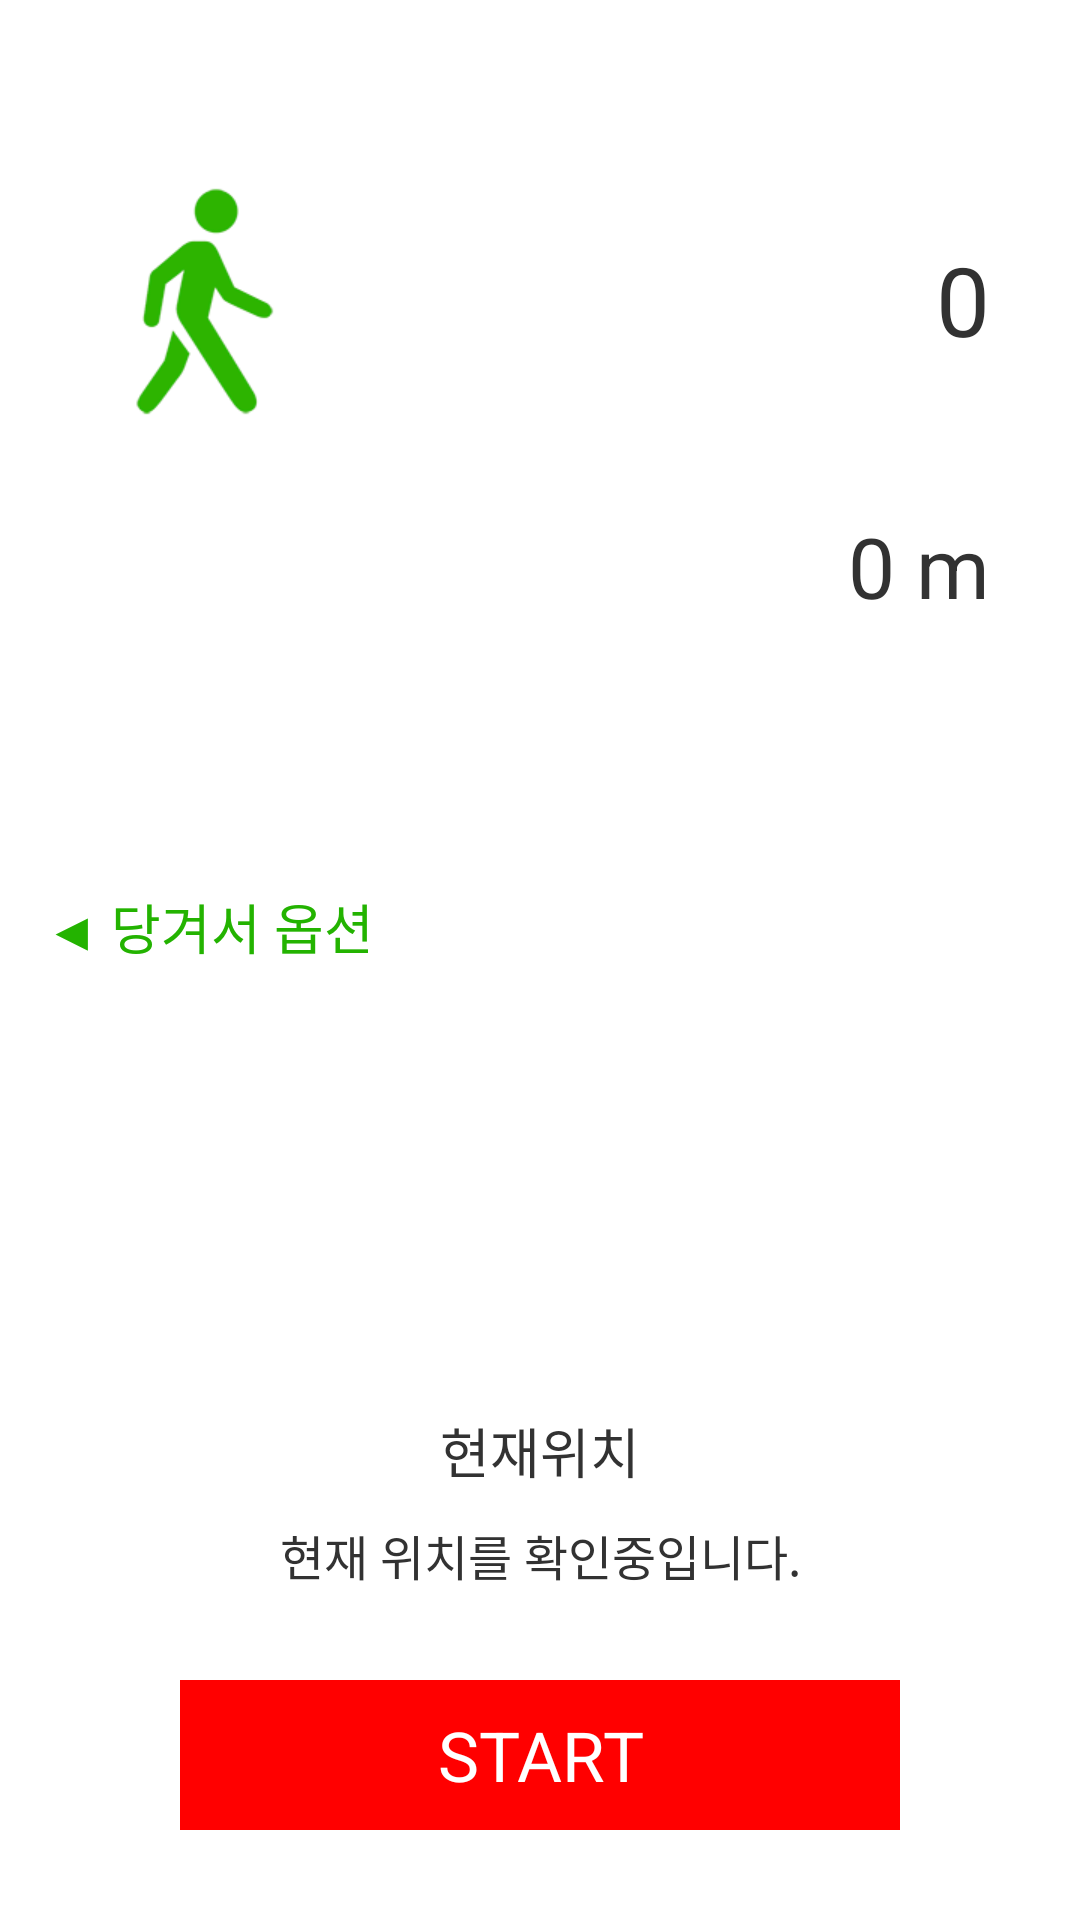

Screen size 1080px x 1920px. Icon name, then its center in pixels as (x,y):
walk: (204,301)
